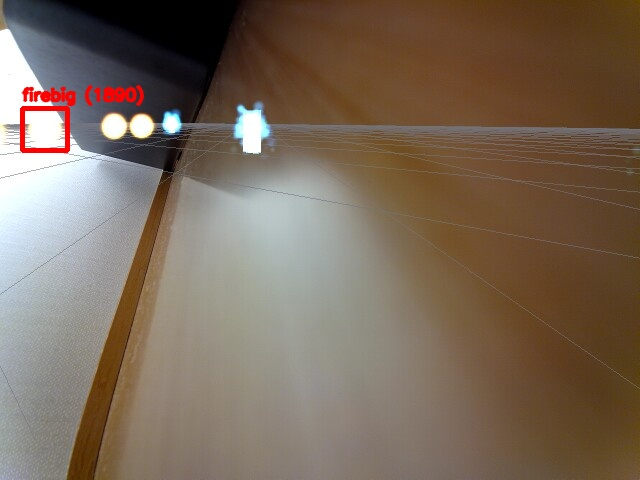firebig: (22, 108, 67, 150)
